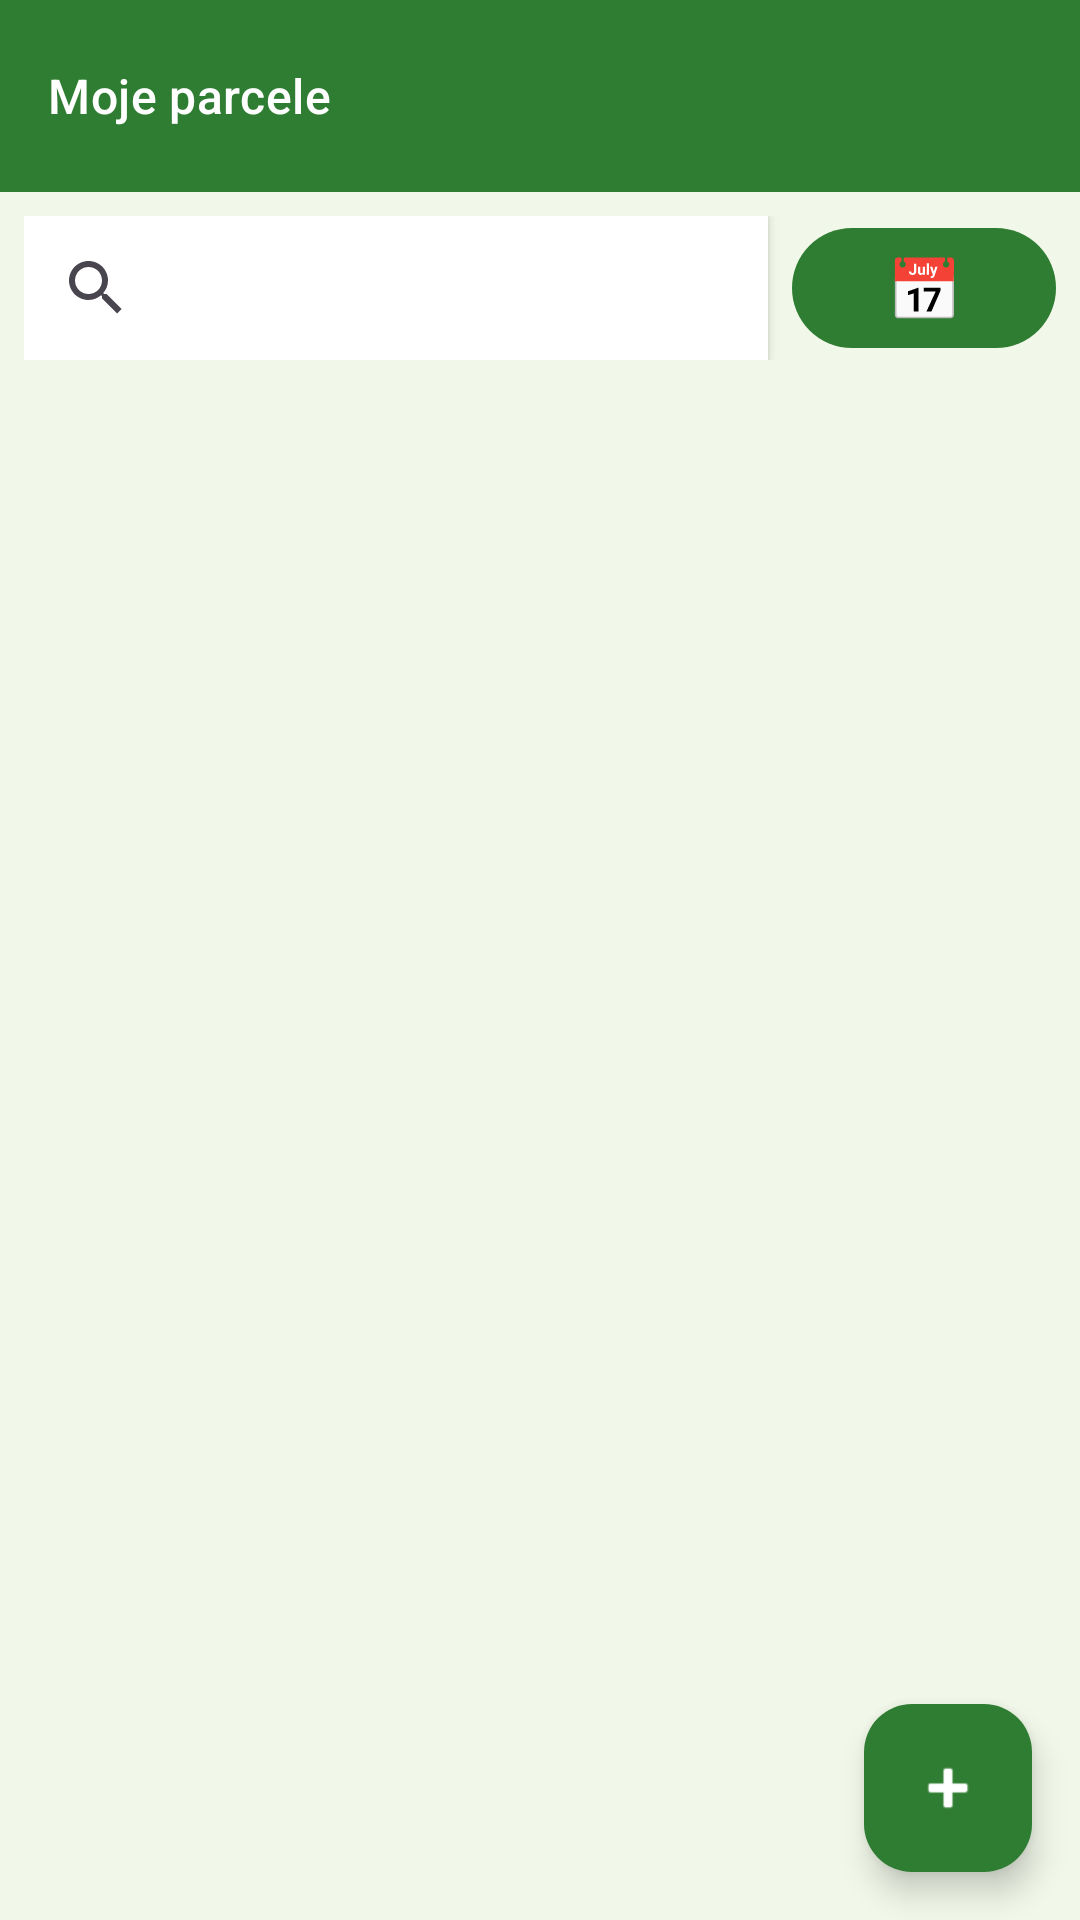

Named icons in this screenshot (1080 × 1920) and their bounding boxes, (x1, y1, x2, y2):
Dodaj parcelu: (864, 1704, 1032, 1872)
